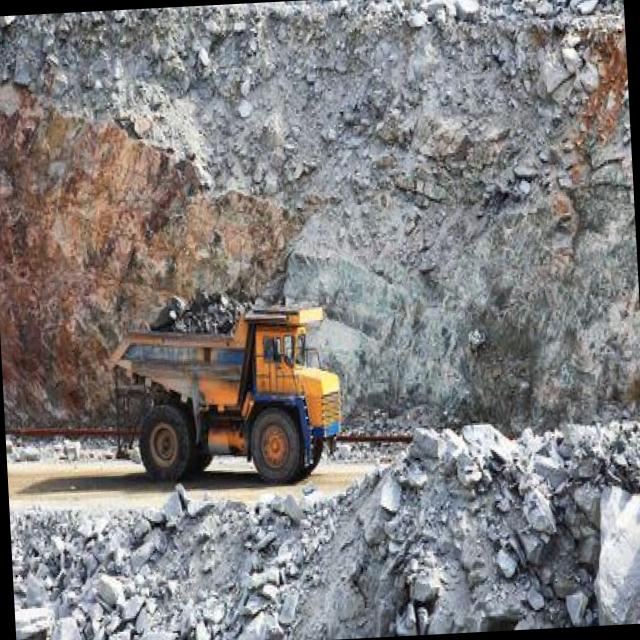Camion volquete: (100, 287, 348, 500)
